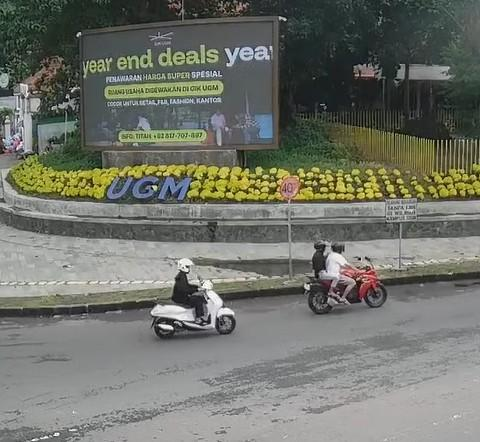Helmet: (177, 258, 193, 272), (331, 242, 344, 253), (314, 241, 325, 250)
